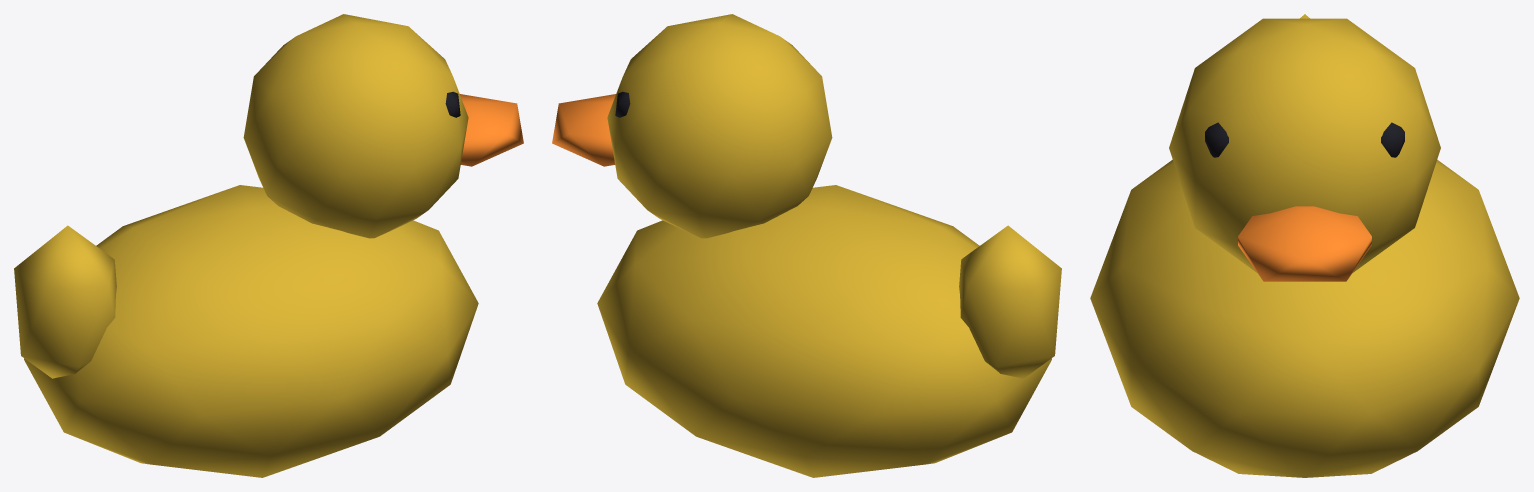
Rendered from item_ic_rubberduck.glb.
3 renders of one model, left to right at view 1: azimuth 30°, elevation 25°; view 2: azimuth 150°, elevation 25°; view 3: azimuth 270°, elevation 25°, orthographic. The views are drawn at different scales.
Parts seen in each view (by area): view 1: item_ic_rubberduck_gloss, item_ic_rubberduck_main; view 2: item_ic_rubberduck_gloss, item_ic_rubberduck_main; view 3: item_ic_rubberduck_gloss, item_ic_rubberduck_main.
Boxes of the visible parts, <box> form: item_ic_rubberduck_gloss: <box>14,14,478,477</box>; item_ic_rubberduck_main: <box>445,91,523,166</box>; item_ic_rubberduck_gloss: <box>597,14,1061,477</box>; item_ic_rubberduck_main: <box>552,91,630,166</box>; item_ic_rubberduck_gloss: <box>1090,14,1519,477</box>; item_ic_rubberduck_main: <box>1205,122,1404,281</box>.
Size of the model in its own units: 0.1894 by 0.148 by 0.12.
